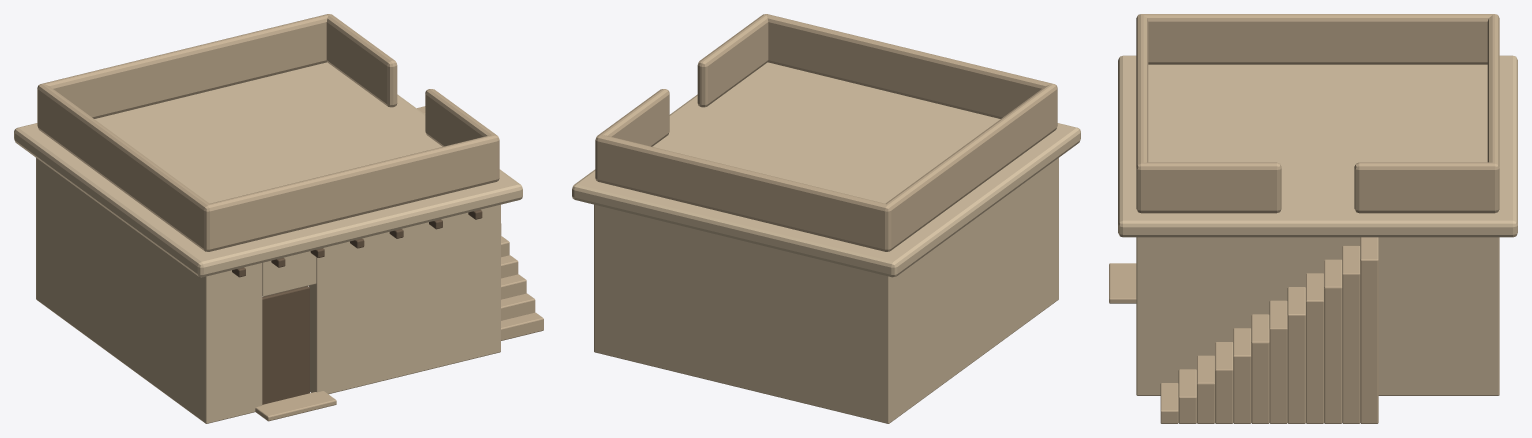
File: house_mudbrick_babylonian_01.glb
The picture shows the model from 3 angles, left to right: view 1: azimuth 30°, elevation 25°; view 2: azimuth 150°, elevation 25°; view 3: azimuth 270°, elevation 25°; orthographic projection. The views are drawn at different scales.
Visible parts, largest first — view 1: telhado, casa_corpo, porta_madeira; view 2: telhado, casa_corpo; view 3: telhado, casa_corpo.
Boxes of the visible parts, x1,y1,x2,y2 form: telhado: (14,14,522,277); casa_corpo: (36,106,543,423); porta_madeira: (262,286,309,404); telhado: (572,14,1080,277); casa_corpo: (594,158,1058,423); telhado: (1118,14,1517,237); casa_corpo: (1109,237,1499,423).
Size of the model in its own units: 7.4 by 4.2 by 6.75.
